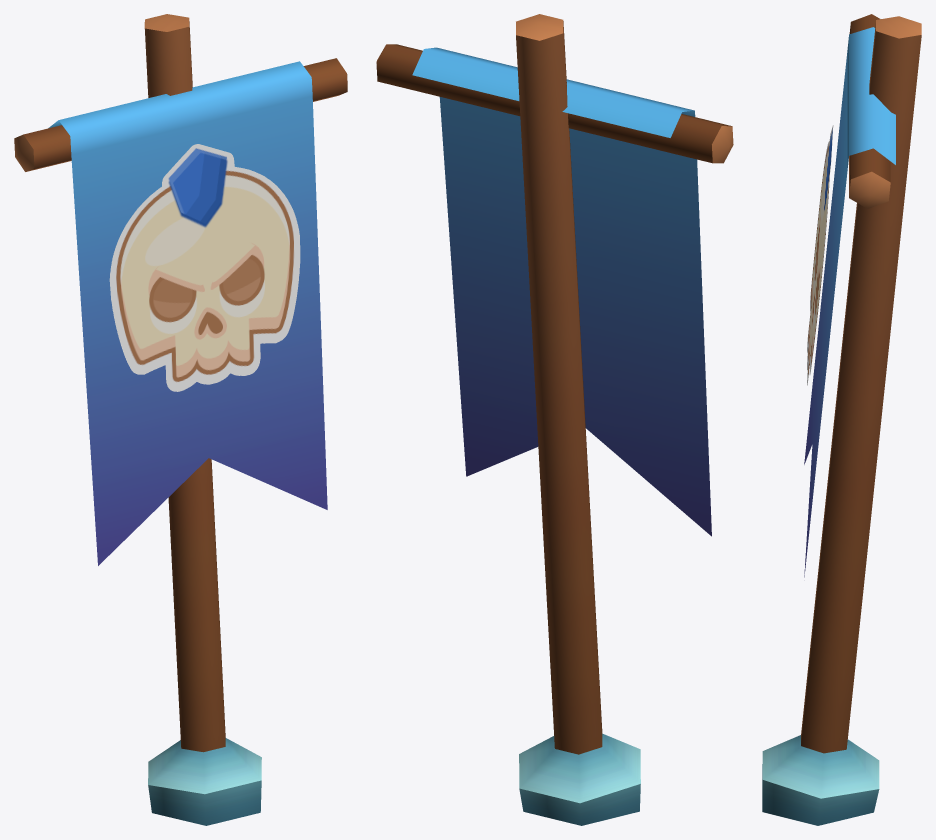
File: env_flag_Skeletons_v01.fbx
3 renders of one model, left to right at view 1: azimuth 30°, elevation 25°; view 2: azimuth 150°, elevation 25°; view 3: azimuth 270°, elevation 25°, orthographic. The views are drawn at different scales.
Visible parts, largest first — view 1: Flag_Skeletons, Flag_Skeletons.001; view 2: Flag_Skeletons; view 3: Flag_Skeletons, Flag_Skeletons.001.
Part boxes in pixels (x1,y1,x2,y2): Flag_Skeletons: [14, 14, 347, 825]; Flag_Skeletons.001: [109, 144, 300, 391]; Flag_Skeletons: [376, 14, 733, 825]; Flag_Skeletons: [762, 14, 921, 825]; Flag_Skeletons.001: [807, 125, 833, 385].
Size of the model in its own units: 184 by 401 by 74.85.
